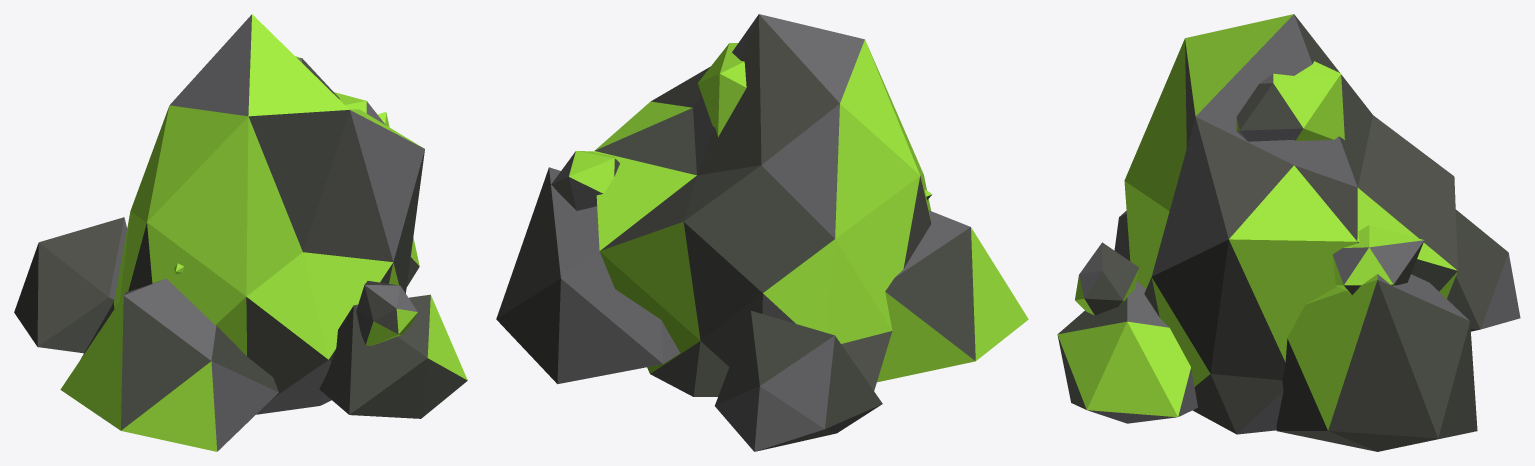
File: uranium_ore_c.obj
The picture shows the model from 3 angles, left to right: view 1: azimuth 30°, elevation 25°; view 2: azimuth 150°, elevation 25°; view 3: azimuth 270°, elevation 25°; orthographic projection. The views are drawn at different scales.
Bounding box in the file's own units: 1.17 × 0.9447 × 1.11.
